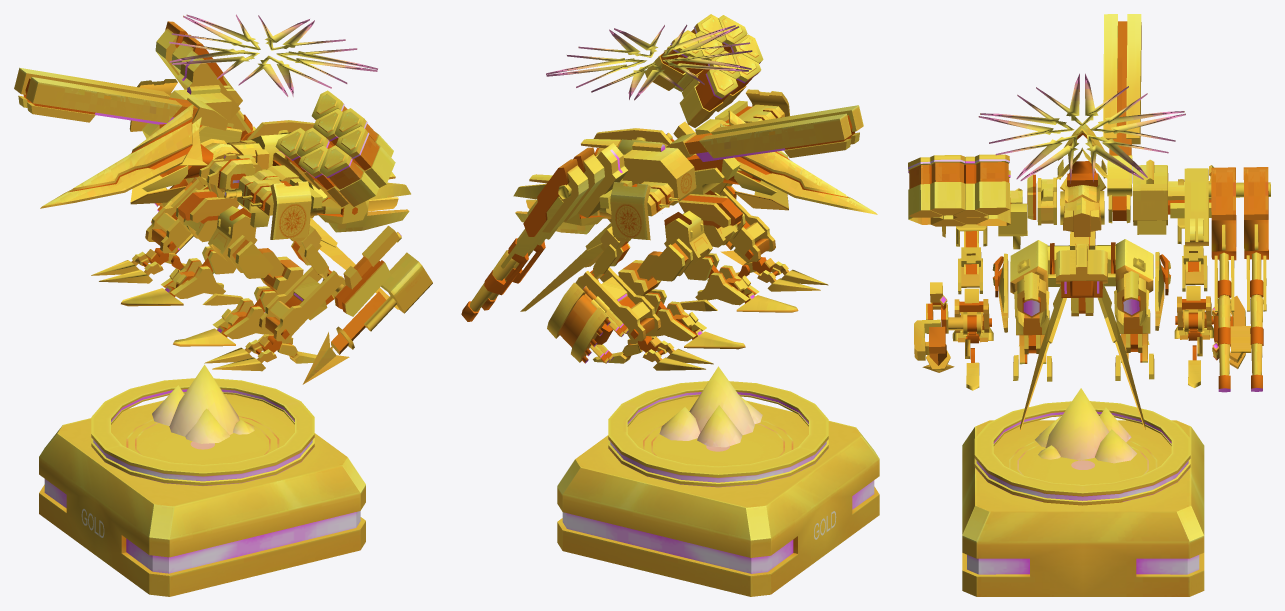
Rendered from my_trophy_EN0007_outdoor_gold.glb.
3 renders of one model, left to right at view 1: azimuth 30°, elevation 25°; view 2: azimuth 150°, elevation 25°; view 3: azimuth 270°, elevation 25°, orthographic. The views are drawn at different scales.
Parts seen in each view (by area): view 1: my_trophy_EN0007_outdoor_gold; view 2: my_trophy_EN0007_outdoor_gold; view 3: my_trophy_EN0007_outdoor_gold.
Boxes of the visible parts, x1,y1,x2,y2 form: my_trophy_EN0007_outdoor_gold: (14,14,432,596); my_trophy_EN0007_outdoor_gold: (461,14,879,596); my_trophy_EN0007_outdoor_gold: (908,14,1270,596).
Bounding box in the file's own units: 0.00597 × 0.00817 × 0.00585.
2 materials, 2 textured.
